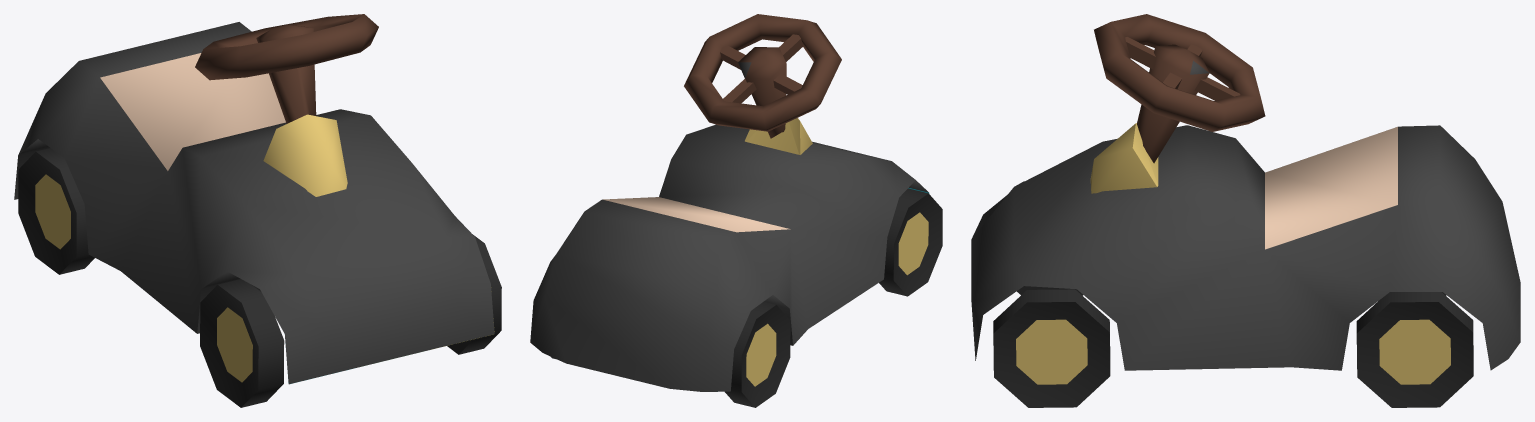
The picture shows the model from 3 angles, left to right: view 1: azimuth 30°, elevation 25°; view 2: azimuth 150°, elevation 25°; view 3: azimuth 270°, elevation 25°; orthographic projection. The views are drawn at different scales.
Visible parts, largest first — view 1: toy_038; view 2: toy_038; view 3: toy_038.
Part boxes in pixels (bbox=[...]): toy_038: bbox=[14, 14, 501, 407]; toy_038: bbox=[530, 14, 942, 407]; toy_038: bbox=[971, 14, 1520, 407].
Size of the model in its own units: 0.3026 by 0.3767 by 0.5902.
Materials: 6 (1 with a texture image).
